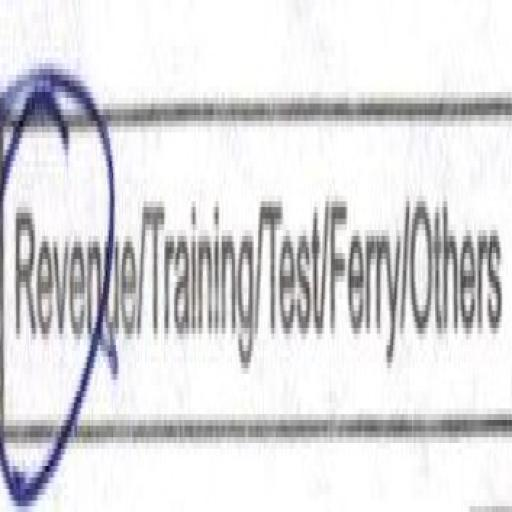check: (0, 37, 141, 512)
